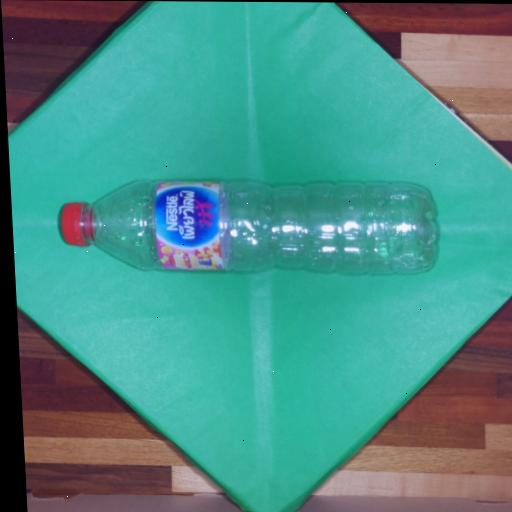bottle: (39, 163, 458, 289)
